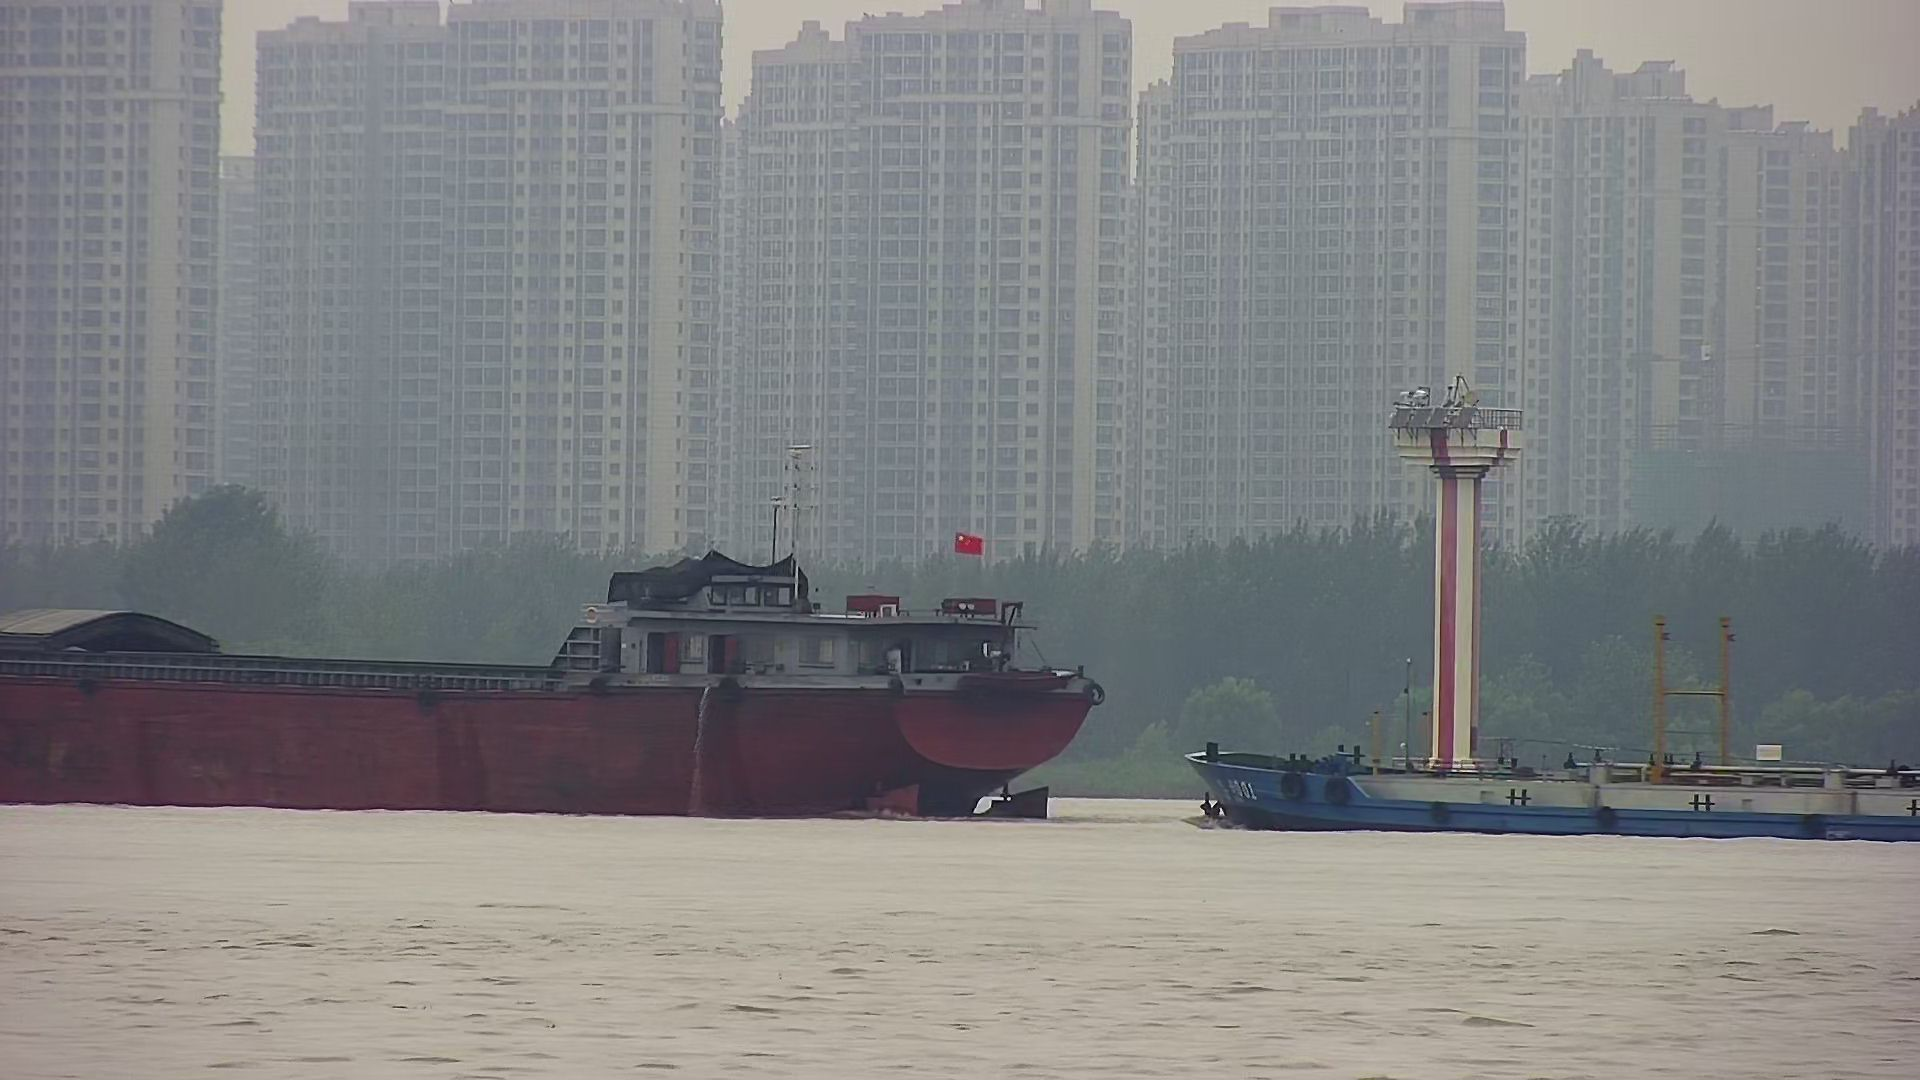platform: (1389, 386, 1524, 841)
ship: (3, 473, 1104, 829), (1185, 607, 1920, 848)
